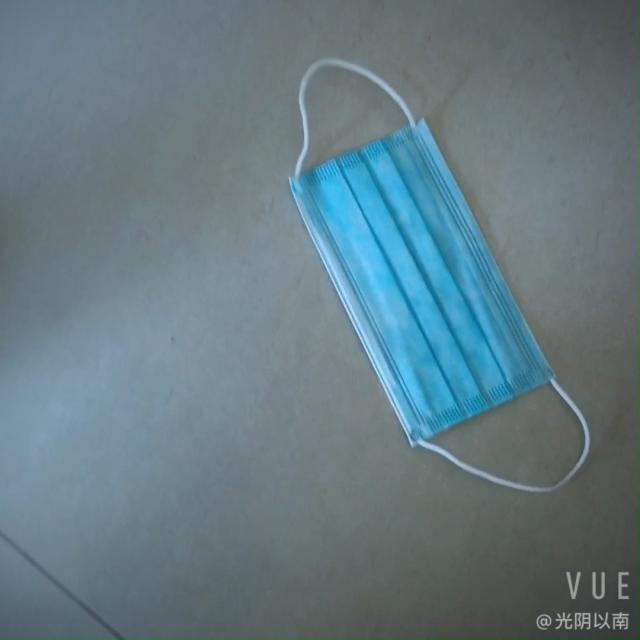face mask: (262, 107, 542, 447)
